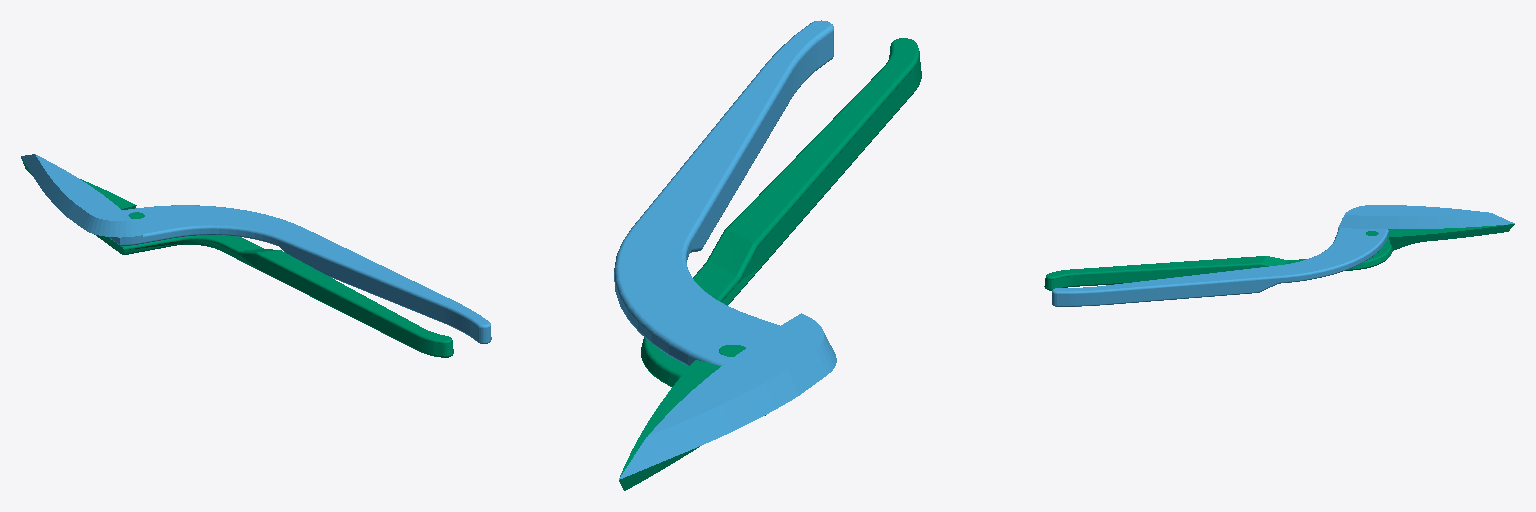
The robot description file, URDF, robot "partnet_ab83c793-5a7d-4b02-aebf-6464fc116eb7":
<?xml version="1.0" ?>
<robot name="partnet_ab83c793-5a7d-4b02-aebf-6464fc116eb7">
	<link name="base"/>
	<link name="link_0">
		<visual name="blade-6">
			<origin xyz="0.3537825 0 -0.192095"/>
			<geometry>
				<mesh filename="textured_objs/new-5.obj"/>
			</geometry>
		</visual>
		<visual name="handle-7">
			<origin xyz="0.3537825 0 -0.192095"/>
			<geometry>
				<mesh filename="textured_objs/new-0.obj"/>
			</geometry>
		</visual>
		<visual name="handle-7">
			<origin xyz="0.3537825 0 -0.192095"/>
			<geometry>
				<mesh filename="textured_objs/new-4.obj"/>
			</geometry>
		</visual>
		<collision>
			<origin xyz="0.3537825 0 -0.192095"/>
			<geometry>
				<mesh filename="textured_objs/new-5.obj"/>
			</geometry>
		</collision>
		<collision>
			<origin xyz="0.3537825 0 -0.192095"/>
			<geometry>
				<mesh filename="textured_objs/new-0.obj"/>
			</geometry>
		</collision>
		<collision>
			<origin xyz="0.3537825 0 -0.192095"/>
			<geometry>
				<mesh filename="textured_objs/new-4.obj"/>
			</geometry>
		</collision>
	</link>
	<joint name="joint_0" type="revolute">
		<origin xyz="-0.3537825 0 0.192095"/>
		<axis xyz="0 1 0"/>
		<child link="link_0"/>
		<parent link="link_1"/>
		<limit lower="0.0" upper="0.6911503837897545"/>
	</joint>
	<link name="link_1">
		<visual name="screw-3">
			<origin xyz="0 0 0"/>
			<geometry>
				<mesh filename="textured_objs/original-4.obj"/>
			</geometry>
		</visual>
		<visual name="screw-3">
			<origin xyz="0 0 0"/>
			<geometry>
				<mesh filename="textured_objs/original-12.obj"/>
			</geometry>
		</visual>
		<visual name="screw-3">
			<origin xyz="0 0 0"/>
			<geometry>
				<mesh filename="textured_objs/original-10.obj"/>
			</geometry>
		</visual>
		<visual name="blade-8">
			<origin xyz="0 0 0"/>
			<geometry>
				<mesh filename="textured_objs/new-3.obj"/>
			</geometry>
		</visual>
		<visual name="handle-9">
			<origin xyz="0 0 0"/>
			<geometry>
				<mesh filename="textured_objs/new-2.obj"/>
			</geometry>
		</visual>
		<collision>
			<origin xyz="0 0 0"/>
			<geometry>
				<mesh filename="textured_objs/original-4.obj"/>
			</geometry>
		</collision>
		<collision>
			<origin xyz="0 0 0"/>
			<geometry>
				<mesh filename="textured_objs/original-12.obj"/>
			</geometry>
		</collision>
		<collision>
			<origin xyz="0 0 0"/>
			<geometry>
				<mesh filename="textured_objs/original-10.obj"/>
			</geometry>
		</collision>
		<collision>
			<origin xyz="0 0 0"/>
			<geometry>
				<mesh filename="textured_objs/new-3.obj"/>
			</geometry>
		</collision>
		<collision>
			<origin xyz="0 0 0"/>
			<geometry>
				<mesh filename="textured_objs/new-2.obj"/>
			</geometry>
		</collision>
	</link>
	<joint name="joint_1" type="fixed">
		<origin rpy="1.570796326794897 0 -1.570796326794897" xyz="0 0 0"/>
		<child link="link_1"/>
		<parent link="base"/>
	</joint>
</robot>

--- Render facts (derived) ---
Views: 3 orthographic renders of the robot side by side, from view 1: azimuth 30°, elevation 25°; view 2: azimuth 150°, elevation 25°; view 3: azimuth 270°, elevation 25°.
Robot: partnet_ab83c793-5a7d-4b02-aebf-6464fc116eb7 — 3 links, 2 joints (1 revolute, 1 fixed); root link base; default pose: all joints at 0.
Links seen in each view (by area): view 1: link_0, link_1; view 2: link_0, link_1; view 3: link_0, link_1.
Boxes of the visible links, x1,y1,x2,y2 form: link_0: (21,154,491,343); link_1: (21,158,453,357); link_0: (614,20,836,479); link_1: (619,38,921,490); link_0: (1052,205,1514,306); link_1: (1044,224,1514,290).
Bounding box of the posed robot: 0.7774 × 1.92 × 0.155 m (x, y, z).
8 mesh visuals loaded from 8 distinct referenced files (8 OBJ).
